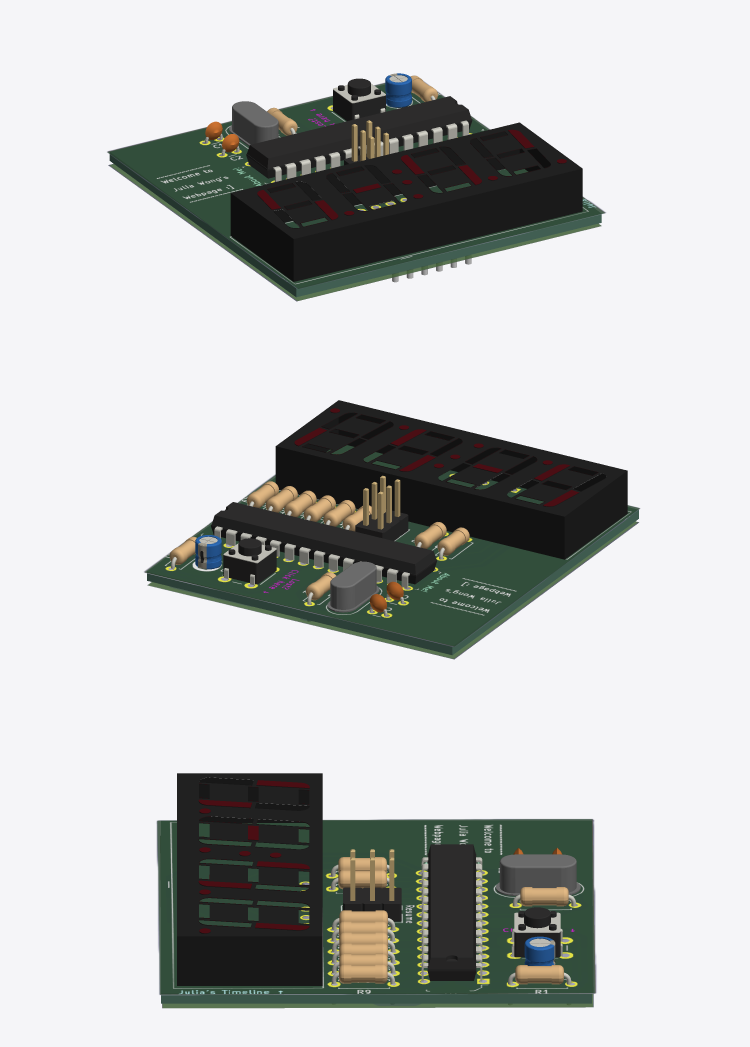
Rendered from pcb_site_2.glb.
The picture shows the model from 3 angles, top to bottom: view 1: azimuth 30°, elevation 25°; view 2: azimuth 150°, elevation 25°; view 3: azimuth 270°, elevation 25°; orthographic projection. The views are drawn at different scales.
Parts seen in each view (by area): view 1: CA56-12SRWA.054, Adobe Express - file (5), imageedit_2_2973788829; view 2: CA56-12SRWA.054, Adobe Express - file (5), imageedit_2_2973788829; view 3: CA56-12SRWA.054, Adobe Express - file (5), imageedit_2_2973788829.
Part boxes in pixels (x1=…): CA56-12SRWA.054: x1=109, y1=73, x2=601, y2=297; Adobe Express - file (5): x1=107, y1=76, x2=606, y2=288; imageedit_2_2973788829: x1=108, y1=164, x2=601, y2=301; CA56-12SRWA.054: x1=147, y1=400, x2=638, y2=655; Adobe Express - file (5): x1=144, y1=445, x2=640, y2=646; imageedit_2_2973788829: x1=147, y1=521, x2=638, y2=659; CA56-12SRWA.054: x1=161, y1=773, x2=591, y2=1003; Adobe Express - file (5): x1=156, y1=819, x2=596, y2=995; imageedit_2_2973788829: x1=162, y1=906, x2=593, y2=1008.
Size of what is drawn, in the model's own units: 2.52 by 0.7259 by 3.33.
Materials: 25 (2 with a texture image).
